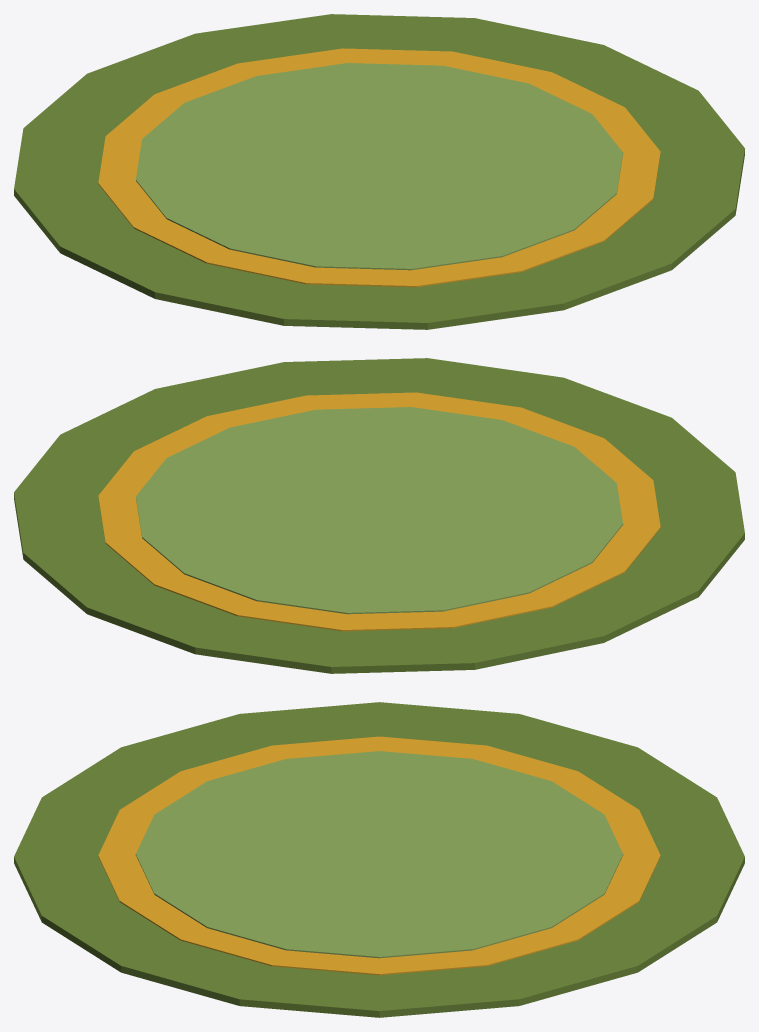
Rendered from rug_ring.glb.
3 views of the same model, one above another, from view 1: azimuth 30°, elevation 25°; view 2: azimuth 150°, elevation 25°; view 3: azimuth 270°, elevation 25° (orthographic).
Visible parts, largest first — view 1: rug_ring; view 2: rug_ring; view 3: rug_ring.
Boxes of the visible parts, x1=… form: rug_ring: x1=14, y1=14, x2=744, y2=329; rug_ring: x1=14, y1=358, x2=744, y2=673; rug_ring: x1=14, y1=702, x2=744, y2=1017.
Bounding box in the file's own units: 1.56 × 0.022 × 1.56.
